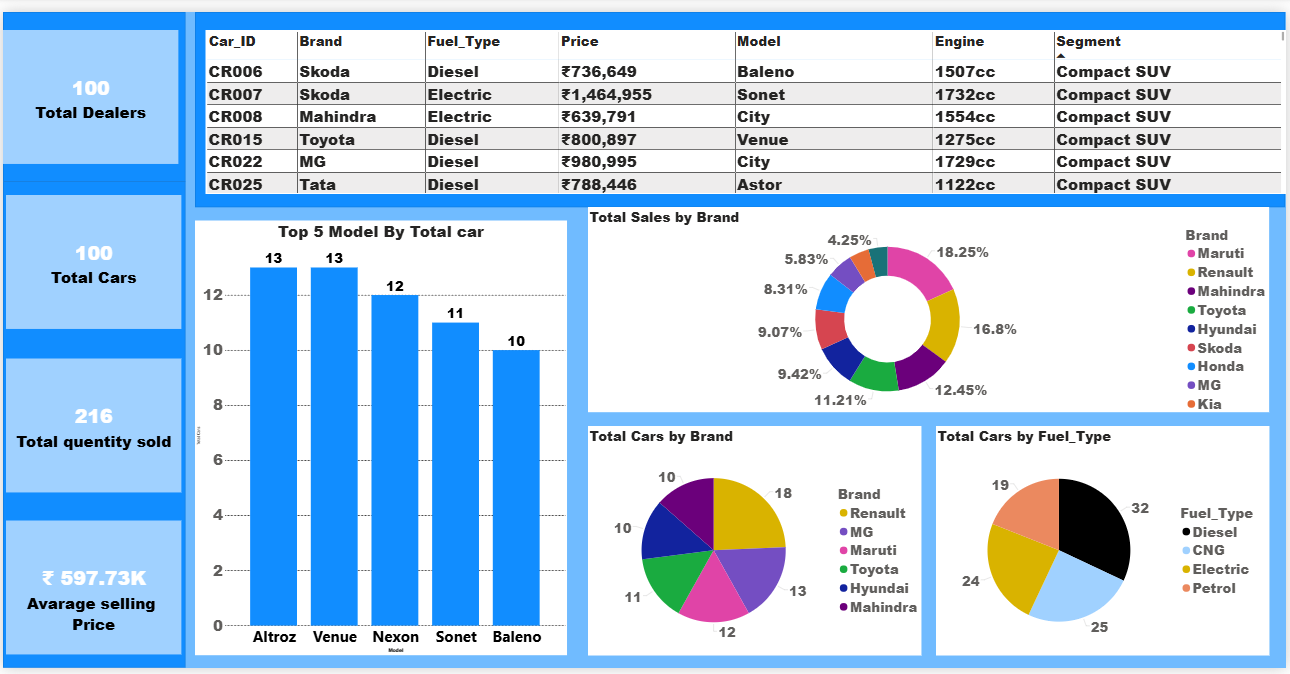

The dashboard page shown, as its layout file describes it:
{"tool":"powerbi","page":{"name":"Car","canvas":[4500,2300],"ordinal":3},"visuals":[{"type":"shape","box":[0,595,640,1705],"z":0},{"type":"shape","box":[0,0,640,595],"z":1000},{"type":"card","fields":{"Values":["Measure.Total Cars"]},"box":[10,640,615,470],"z":2000},{"type":"card","fields":{"Values":["Measure.Total quentity sold"]},"box":[10,1215,615,470],"z":3000},{"type":"card","fields":{"Values":["Measure.Avarage selling Price"]},"box":[10,1785,615,470],"z":4000},{"type":"card","fields":{"Values":["Measure.Total Dealers"]},"box":[0,65,615,470],"z":5000},{"type":"shape","box":[675,0,3825,685],"z":6000},{"type":"tableEx","fields":{"Values":["Cars.Car_ID","Cars.Brand","Cars.Fuel_Type","Cars.Price","Cars.Model","Cars.Engine","Cars.Segment"]},"box":[710,65,3790,575],"z":7000},{"type":"columnChart","title":"Top 5 Model By Total car","fields":{"Category":["Cars.Model"],"Y":["Measure.Total Cars"]},"box":[675,730,1305,1525],"z":8000},{"type":"pieChart","fields":{"Category":["Cars.Fuel_Type"],"Y":["Measure.Total Cars"]},"box":[3275,1450,1170,805],"z":9000},{"type":"pieChart","fields":{"Y":["Measure.Total Cars"],"Category":["Cars.Brand"]},"box":[2055,1450,1170,805],"z":10000},{"type":"donutChart","fields":{"Category":["Cars.Brand"],"Y":["Measure.Total Sales"]},"box":[2055,685,2390,720],"z":11000}]}

Visuals, with their boxes in screenshot pixels (x1, y1, x2, y2), scaled from the page's 4500x2300 canvas onto the 1290x674 screenshot:
shape: Rect(0, 174, 183, 673)
shape: Rect(0, 0, 183, 174)
card - Measure.Total Cars: Rect(3, 188, 179, 325)
card - Measure.Total quentity sold: Rect(3, 356, 179, 494)
card - Measure.Avarage selling Price: Rect(3, 523, 179, 661)
card - Measure.Total Dealers: Rect(0, 19, 176, 157)
shape: Rect(194, 0, 1289, 201)
tableEx - Cars.Car_ID x Cars.Brand: Rect(204, 19, 1289, 188)
"Top 5 Model By Total car" columnChart: Rect(194, 214, 568, 661)
pieChart - Cars.Fuel_Type x Measure.Total Cars: Rect(939, 425, 1274, 661)
pieChart - Measure.Total Cars x Cars.Brand: Rect(589, 425, 924, 661)
donutChart - Cars.Brand x Measure.Total Sales: Rect(589, 201, 1274, 412)
